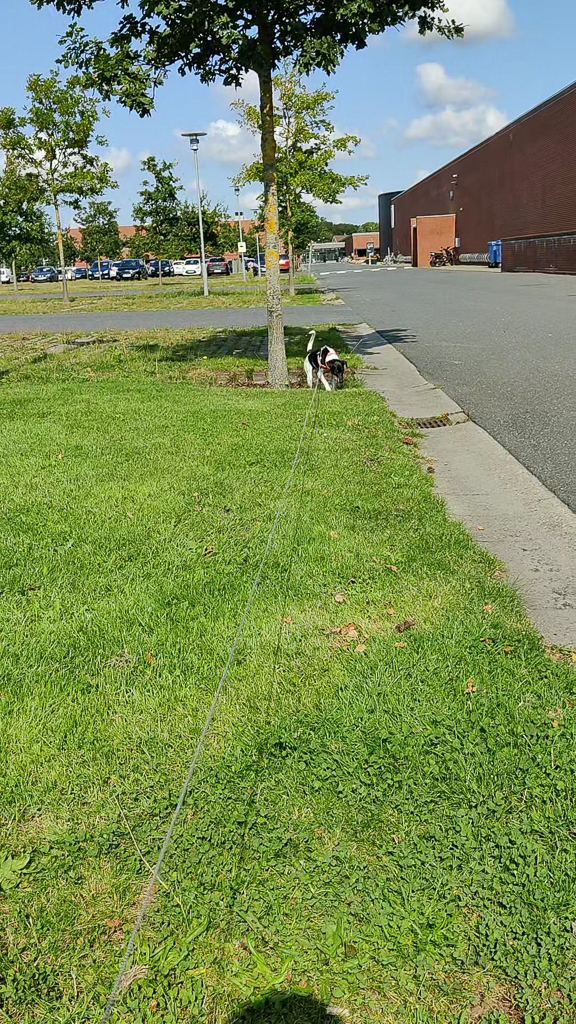Dog: (290, 321, 357, 400)
